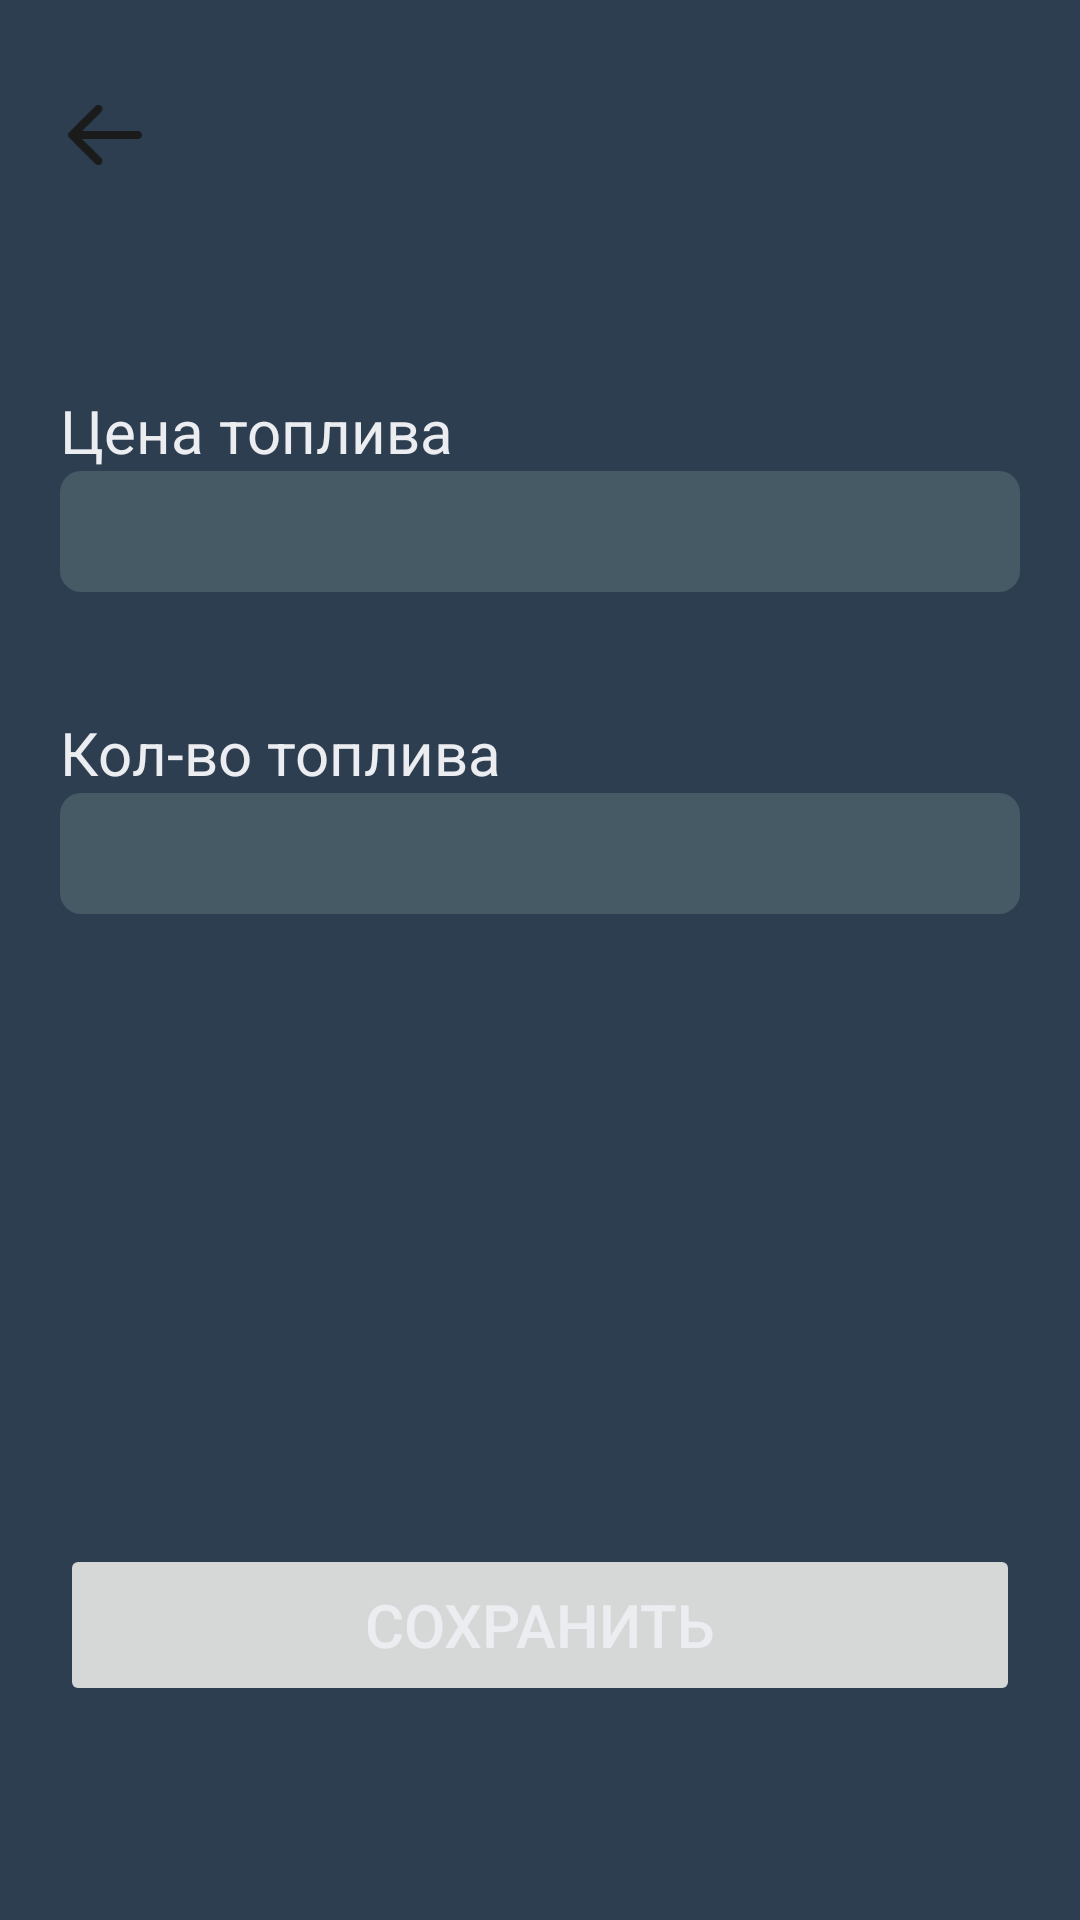

Screen size 1080 × 1920. Icon name, then its box in pixels as (x1,y1,x2,y2):
navbar left: (68,105,142,165)
